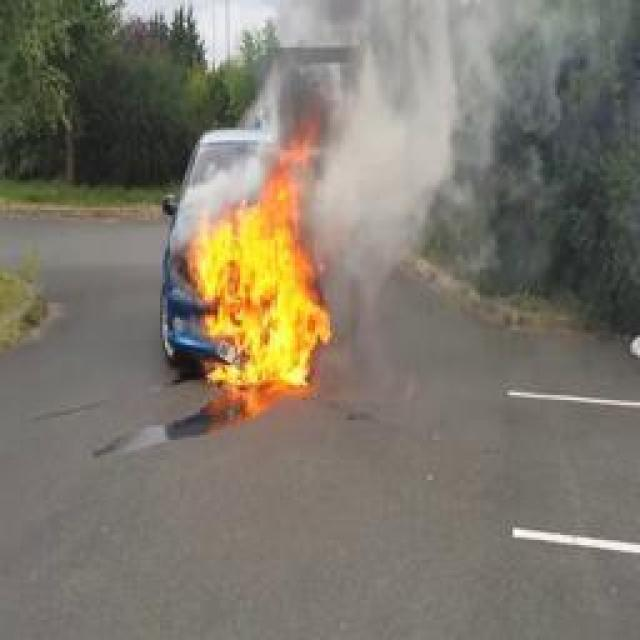Fire: (185, 114, 335, 392)
